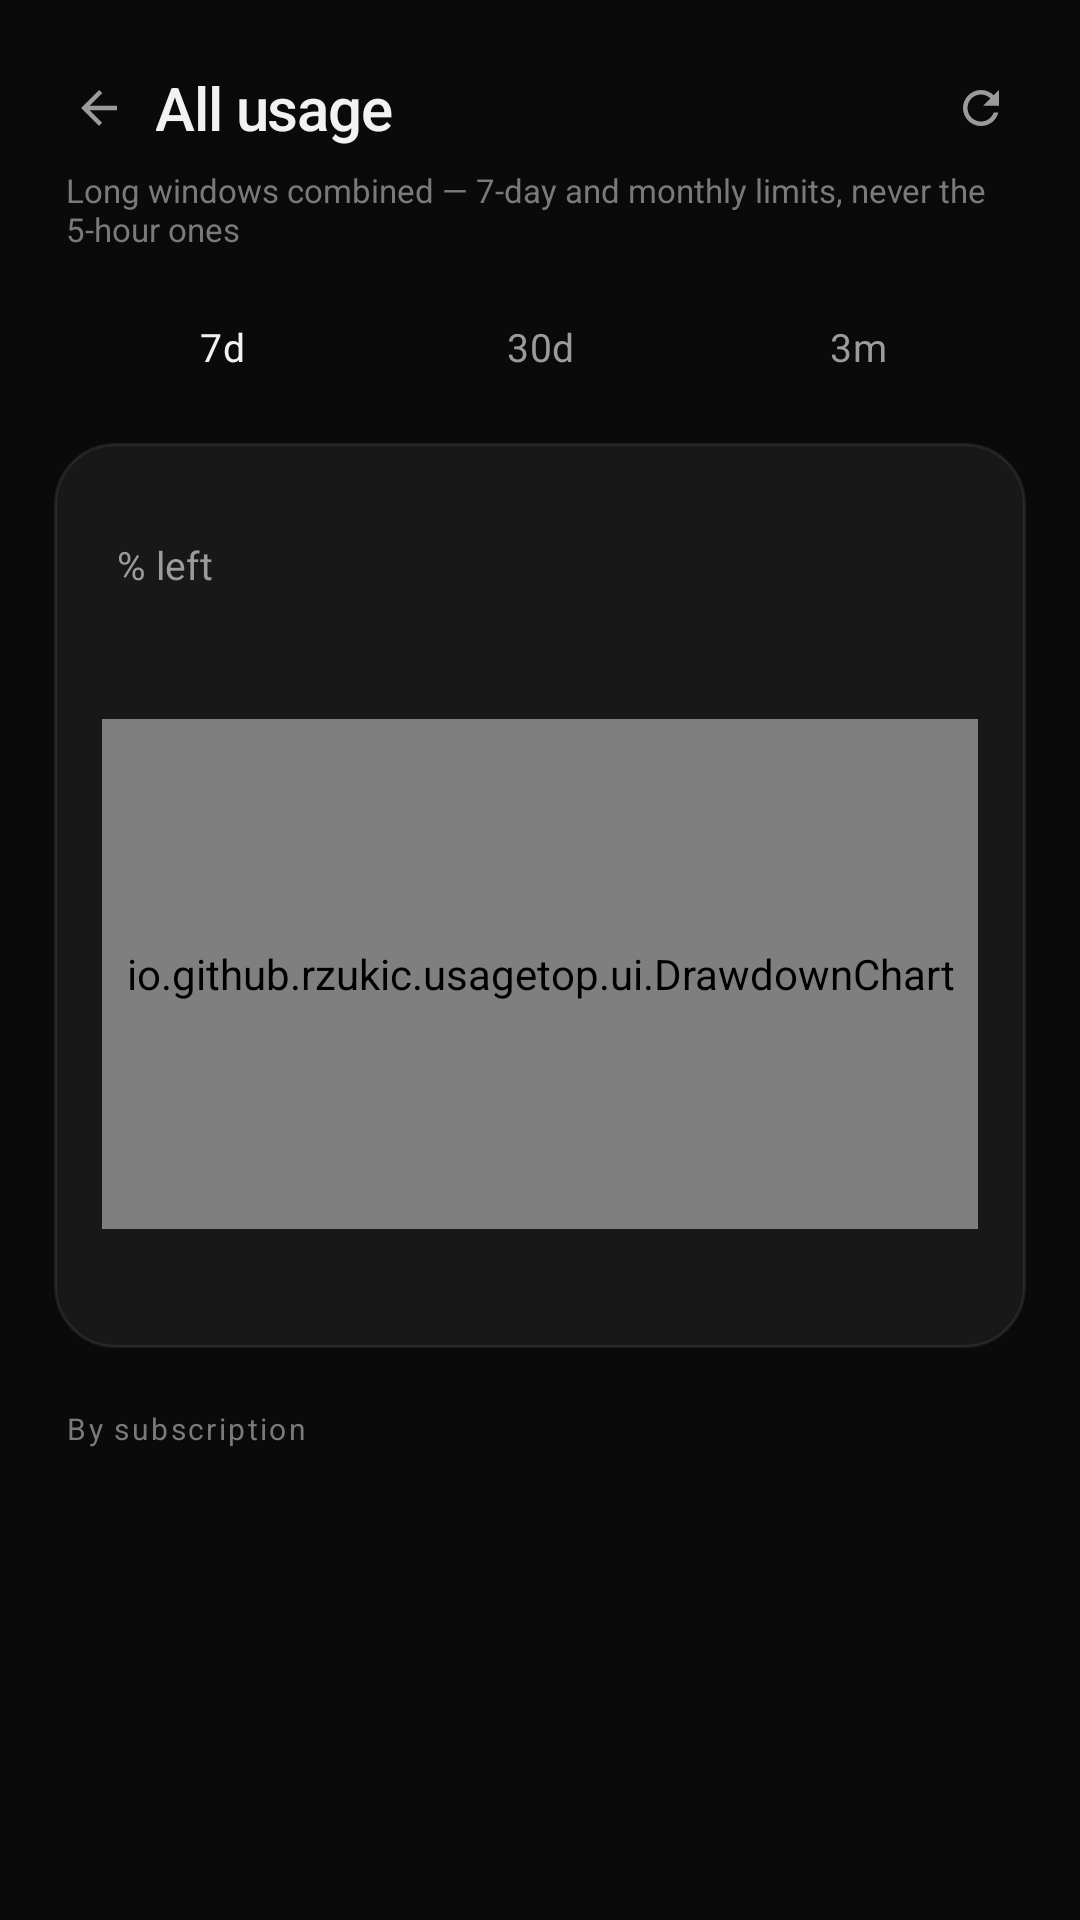

Screen size 1080w x 1920h. Icon name, then its box in pixels as (x1, y1, x2, y2):
Back: (81, 90, 117, 126)
Refresh: (963, 90, 999, 126)
